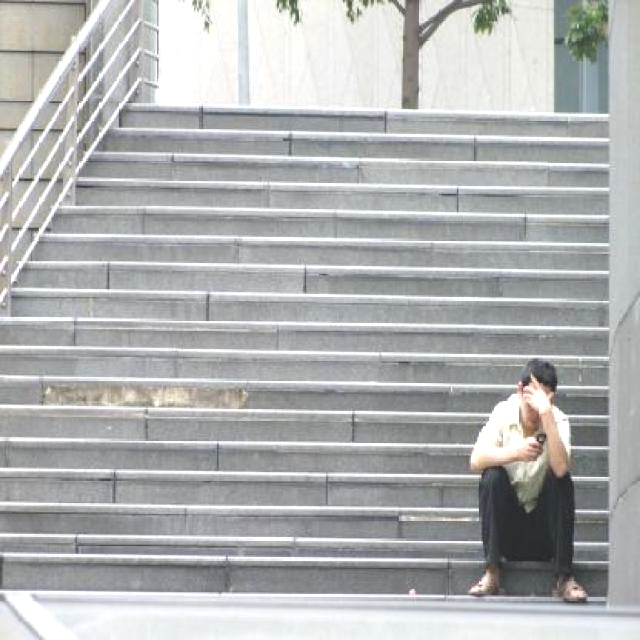stair: (0, 100, 609, 589)
